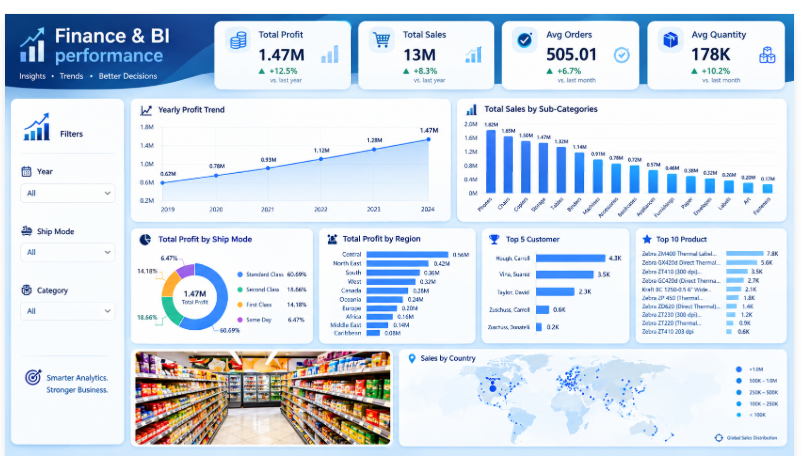

The page's visual inventory and layout, read from the dashboard file:
{"tool":"powerbi","page":{"name":"Page 1","canvas":[3840,2160],"ordinal":0},"visuals":[{"type":"cardVisual","fields":{"Data":["EWA Caps.Total Sales"]},"box":[1780,192,276,192],"z":0},{"type":"cardVisual","fields":{"Data":["Sum(EWA Caps.Quantity)"]},"box":[3188,192,273.3,190],"z":1000},{"type":"cardVisual","fields":{"Data":["EWA Caps.Avg Order Value"]},"box":[2460,193.3,273.3,190],"z":2000},{"type":"cardVisual","fields":{"Data":["EWA Caps.Total profit"]},"box":[1020,192,360,192],"z":3000},{"type":"clusteredColumnChart","title":"Total Sales by sub-categories","fields":{"Category":["EWA Caps.Sub.Category"],"Y":["Sum(EWA Caps.Sales)"]},"box":[2285.3,453.6,1496.7,523.3],"z":4000},{"type":"map","title":" Sales by Country","fields":{"Category":["EWA Caps.Country"],"Size":["Sum(EWA Caps.Sales)"]},"box":[1779.8,1594.1,2000.2,514.1],"z":5000},{"type":"clusteredBarChart","title":"Top 10 Product","fields":{"Category":["EWA Caps.Product.Name"],"Y":["EWA Caps.Total Sales"]},"box":[3090,1054,678,478],"z":6000},{"type":"clusteredBarChart","title":"Top 5 Customer","fields":{"Category":["EWA Caps.Customer.Name"],"Y":["EWA Caps.Total profit"]},"box":[2268,1036,716,496],"z":7000},{"type":"donutChart","fields":{"Category":["EWA Caps.Ship.Mode"],"Y":["EWA Caps.Total profit"]},"box":[659.3,1029.6,725.8,505.4],"z":8000},{"type":"clusteredBarChart","fields":{"Category":["EWA Caps.Region"],"Y":["EWA Caps.Total profit"]},"box":[1466.7,1044.4,720,478],"z":9000},{"type":"image","box":[659.4,1593.8,1137.5,512.5],"z":10000},{"type":"image","box":[2136,224,152,128],"z":11000},{"type":"image","box":[2848,240,136,120],"z":12000},{"type":"image","box":[3572.6,241.9,142.6,112.3],"z":13000},{"type":"image","box":[1424,232,204,128],"z":14000},{"type":"lineChart","title":"Yearly Profit Trend","fields":{"Category":["EWA Caps.Year"],"Y":["Sum(EWA Caps.Profit)"]},"box":[660.6,454.2,1526.1,521.7],"z":15000},{"type":"slicer","fields":{"Values":["EWA Caps.Segment"]},"box":[68,1320,540,100],"z":16000},{"type":"slicer","fields":{"Values":["EWA Caps.Ship.Mode"]},"box":[66.1,1478.2,540.9,90.8],"z":17000},{"type":"slicer","fields":{"Values":["EWA Caps.Category"]},"box":[66.1,1631,540.9,90.8],"z":18000}]}

Visuals, with their boxes in screenshot pixels (x1, y1, x2, y2), scaled from the page's 3840x2160 canvas onto the 801x456 screenshot:
cardVisual - EWA Caps.Total Sales: x1=371 y1=41 x2=429 y2=81
cardVisual - Sum(EWA Caps.Quantity): x1=665 y1=41 x2=722 y2=81
cardVisual - EWA Caps.Avg Order Value: x1=513 y1=41 x2=570 y2=81
cardVisual - EWA Caps.Total profit: x1=213 y1=41 x2=288 y2=81
"Total Sales by sub-categories" clusteredColumnChart: x1=477 y1=96 x2=789 y2=206
" Sales by Country" map: x1=371 y1=337 x2=788 y2=445
"Top 10 Product" clusteredBarChart: x1=645 y1=223 x2=786 y2=323
"Top 5 Customer" clusteredBarChart: x1=473 y1=219 x2=622 y2=323
donutChart - EWA Caps.Ship.Mode x EWA Caps.Total profit: x1=138 y1=217 x2=289 y2=324
clusteredBarChart - EWA Caps.Region x EWA Caps.Total profit: x1=306 y1=220 x2=456 y2=321
image: x1=138 y1=336 x2=375 y2=445
image: x1=446 y1=47 x2=477 y2=74
image: x1=594 y1=51 x2=622 y2=76
image: x1=745 y1=51 x2=775 y2=75
image: x1=297 y1=49 x2=340 y2=76
"Yearly Profit Trend" lineChart: x1=138 y1=96 x2=456 y2=206
slicer - EWA Caps.Segment: x1=14 y1=279 x2=127 y2=300
slicer - EWA Caps.Ship.Mode: x1=14 y1=312 x2=127 y2=331
slicer - EWA Caps.Category: x1=14 y1=344 x2=127 y2=363
